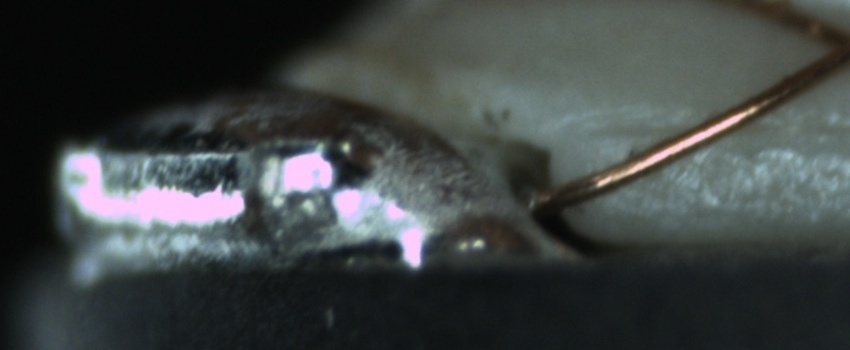CL: (801, 11, 850, 79)
DL: (602, 92, 847, 166)
